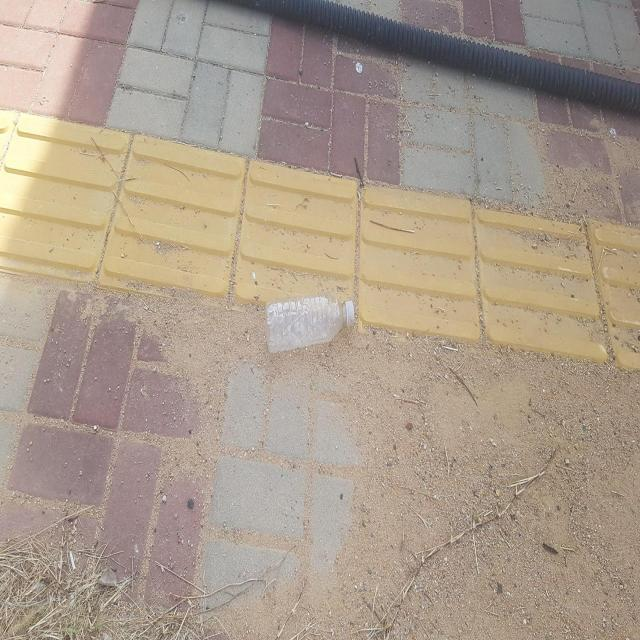plastic: (266, 295, 355, 352)
